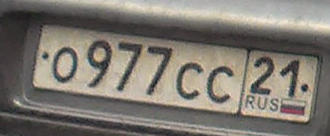character: (147, 44, 174, 98), (84, 39, 113, 89), (117, 41, 142, 95), (176, 61, 204, 103), (206, 63, 234, 105), (51, 45, 79, 86), (248, 54, 275, 95), (279, 53, 301, 98)
